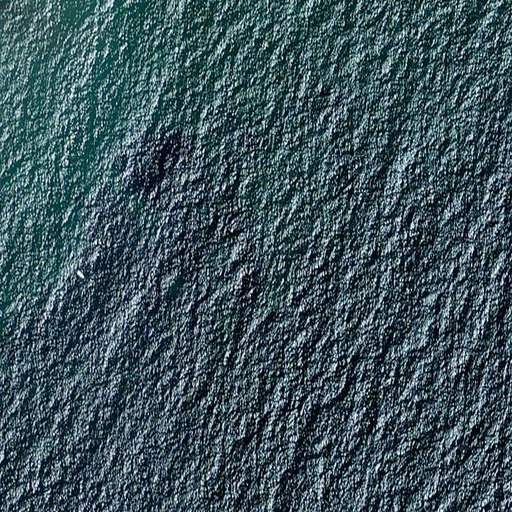ship: (74, 269, 84, 280)
